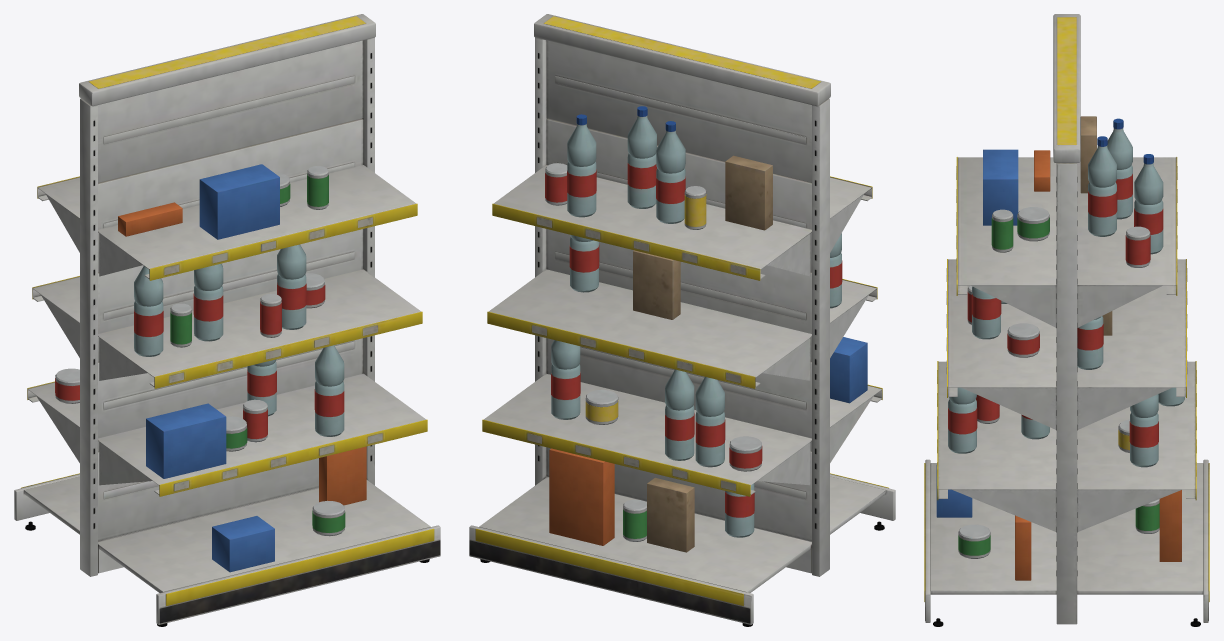
Rendered from gondola.glb.
3 views of the same model, side by side, from view 1: azimuth 30°, elevation 25°; view 2: azimuth 150°, elevation 25°; view 3: azimuth 270°, elevation 25° (orthographic). The views are drawn at different scales.
Parts seen in each view (by area): view 1: gondola, mercadoria; view 2: gondola, mercadoria; view 3: gondola, mercadoria.
Part boxes in pixels (box(x1,y1,x2,y2)): gondola: box(14, 14, 440, 626); mercadoria: box(55, 164, 366, 572); gondola: box(469, 14, 895, 626); mercadoria: box(545, 106, 867, 552); gondola: box(924, 14, 1209, 626); mercadoria: box(936, 116, 1184, 580).
Size of the model in its own units: 1 by 1.65 by 0.886.
2 materials, 2 textured.
